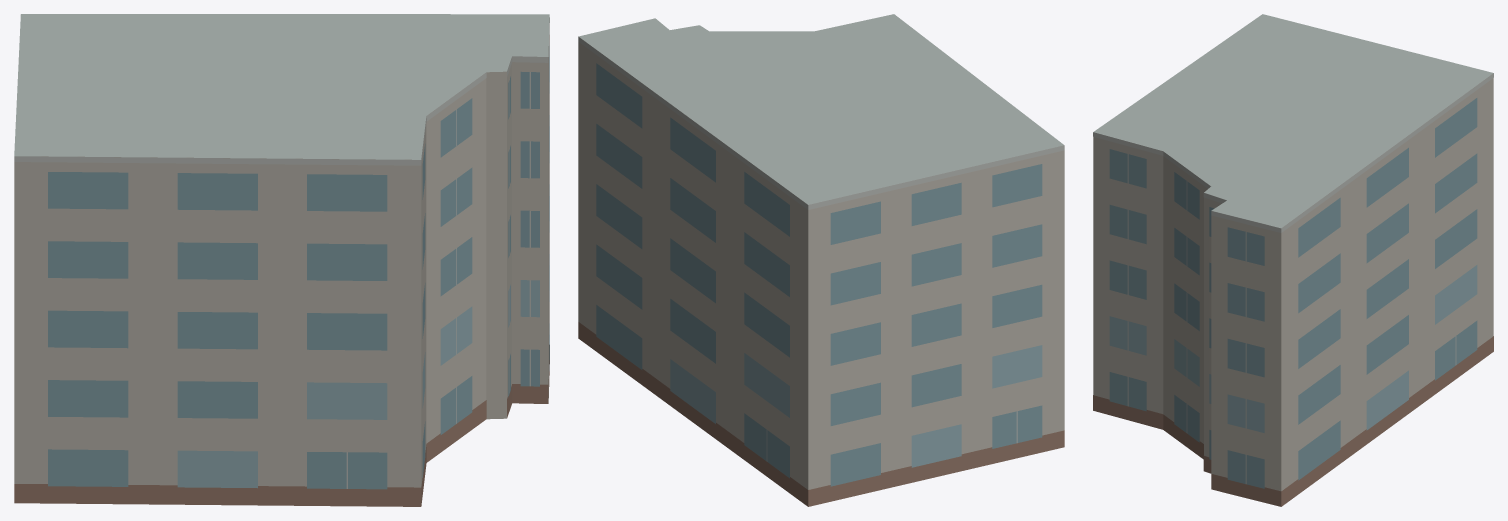
Rendered from survey-upis-33005959.glb.
The picture shows the model from 3 angles, left to right: view 1: azimuth 30°, elevation 25°; view 2: azimuth 150°, elevation 25°; view 3: azimuth 270°, elevation 25°; orthographic projection. The views are drawn at different scales.
Parts seen in each view (by area): view 1: survey-upis-33005959.tmp; view 2: survey-upis-33005959.tmp; view 3: survey-upis-33005959.tmp.
Part boxes in pixels (x1,y1,x2,y2): survey-upis-33005959.tmp: (14,14,549,506); survey-upis-33005959.tmp: (578,14,1064,506); survey-upis-33005959.tmp: (1093,14,1493,506).
Size of the model in its own units: 23.85 by 14.45 by 18.84.
